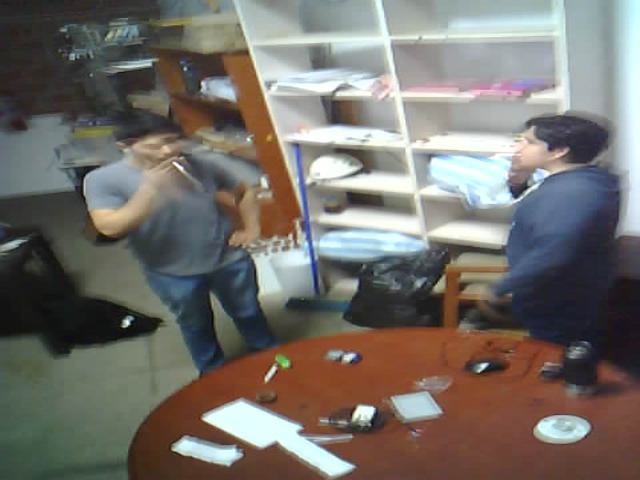person: (73, 80, 318, 403), (472, 89, 640, 416)
